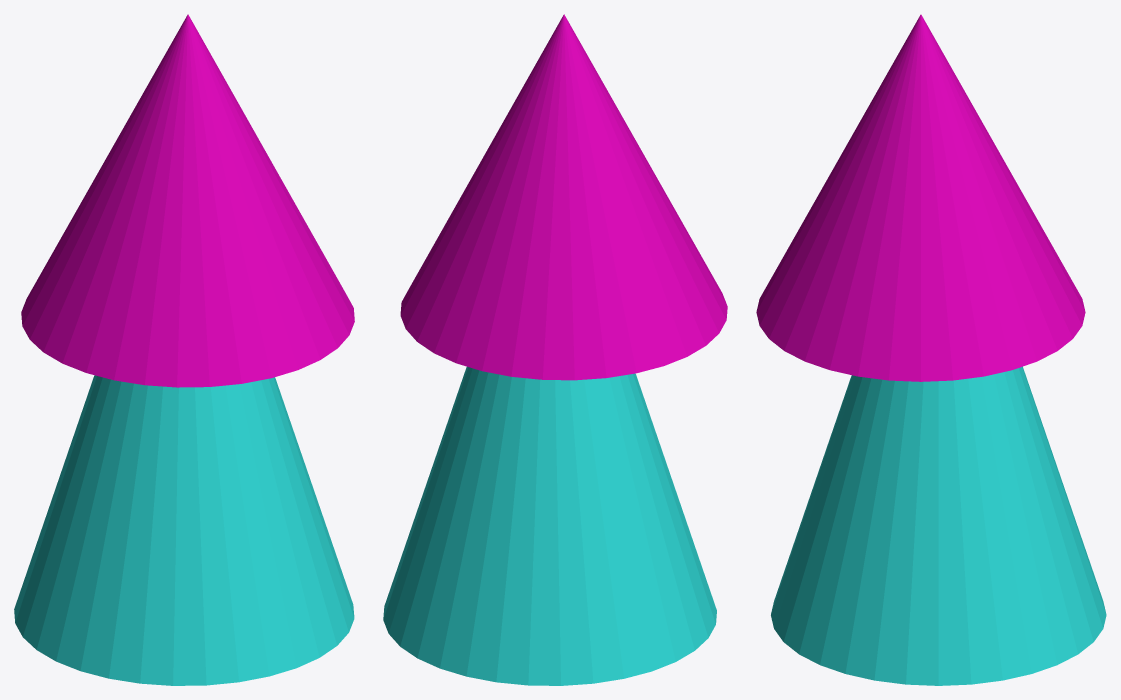
The model's file is bullet.gltf.
3 renders of one model, left to right at view 1: azimuth 30°, elevation 25°; view 2: azimuth 150°, elevation 25°; view 3: azimuth 270°, elevation 25°, orthographic.
Visible parts, largest first — view 1: Cone, Cone.001; view 2: Cone, Cone.001; view 3: Cone, Cone.001.
Boxes of the visible parts, x1,y1,x2,y2 form: Cone: [14, 375, 354, 685]; Cone.001: [21, 14, 354, 387]; Cone: [383, 366, 716, 685]; Cone.001: [400, 14, 727, 380]; Cone: [771, 366, 1106, 685]; Cone.001: [756, 14, 1085, 381].
Bounding box in the file's own units: 2.06 × 4.01 × 2.13.
